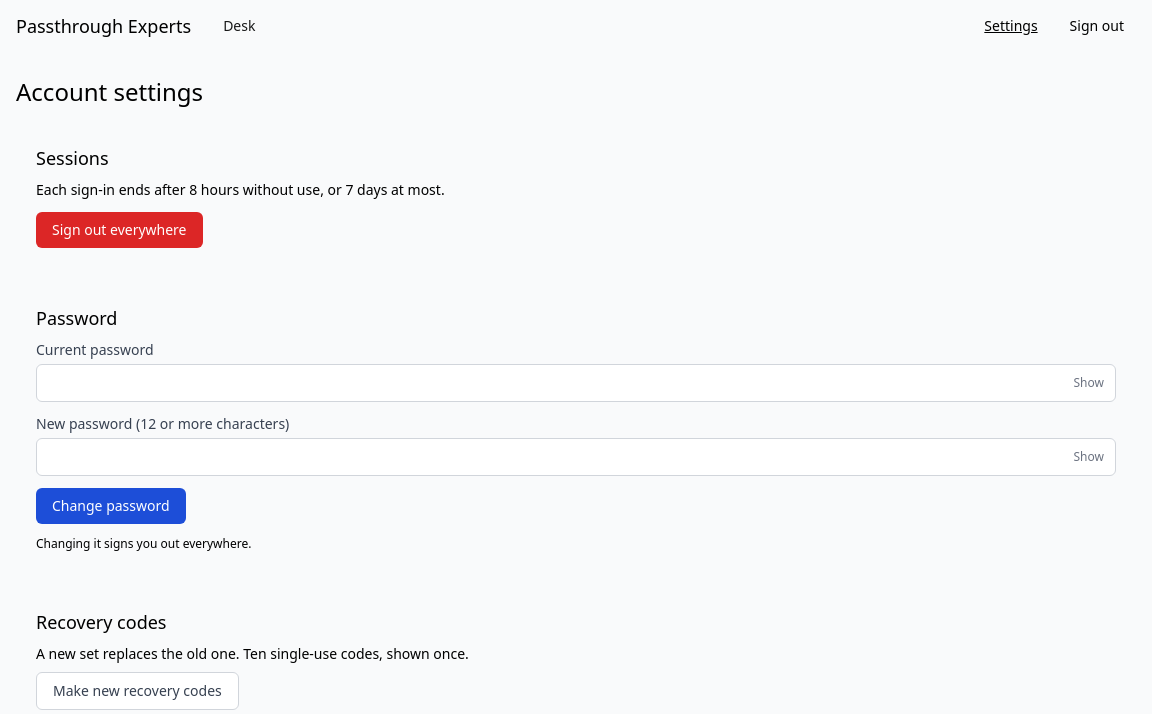
Scenario: settings and sessions › new recovery codes ask for the password first when the server says so, then show ten codes
This screenshot has width=1152, height=714.
Click the button "Make new recovery codes" at (137, 691), box [36,672,239,710]
(page scrolled)
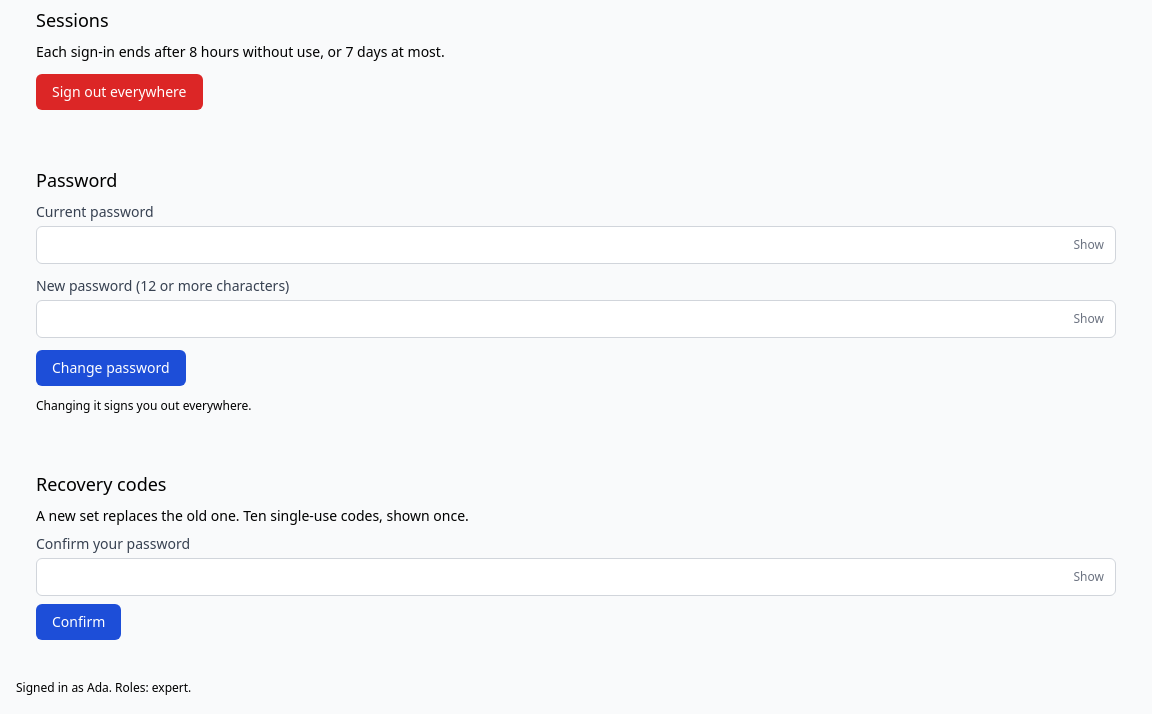
Type "my password" into the password field labelled "Confirm your password" at (576, 577), box [36,558,1116,596]
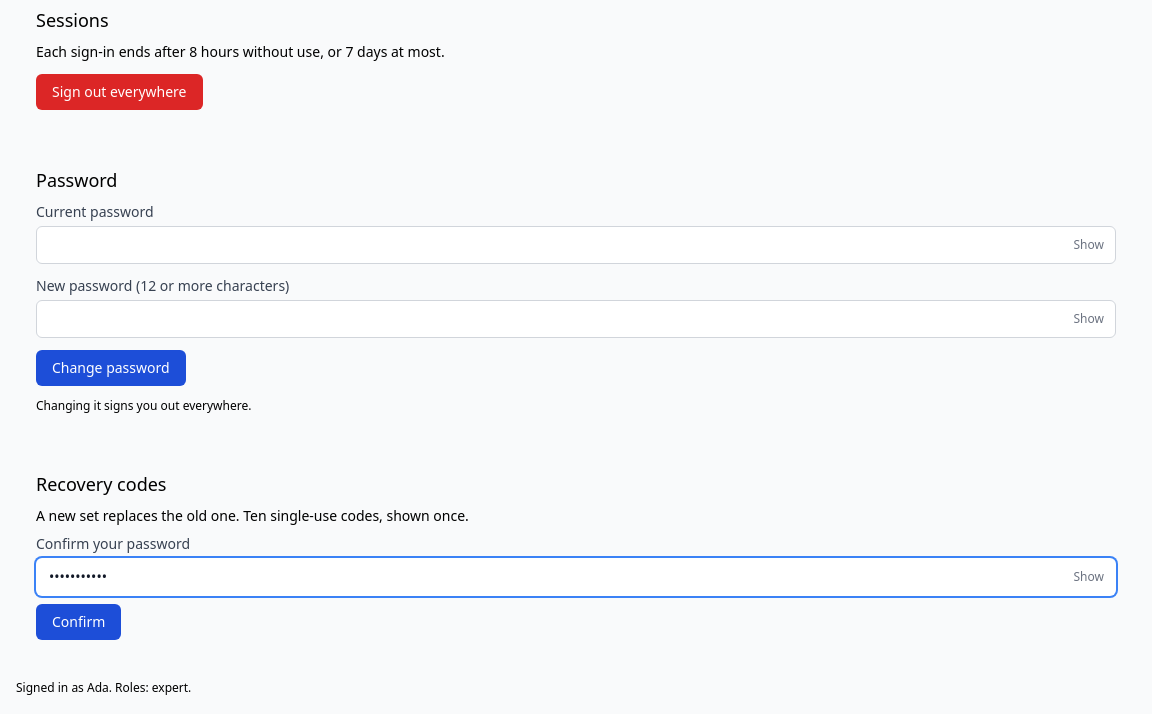
Click the button "Confirm" at (79, 622), box [36,604,121,640]
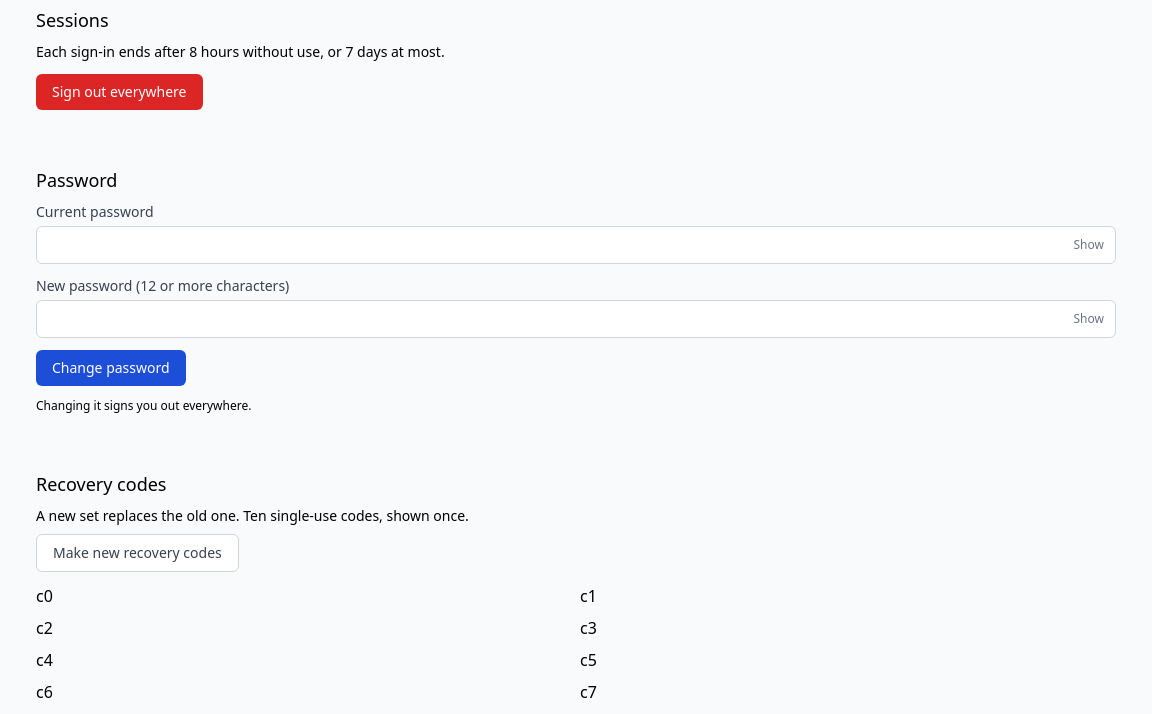
Expected: the number of list items is 10
